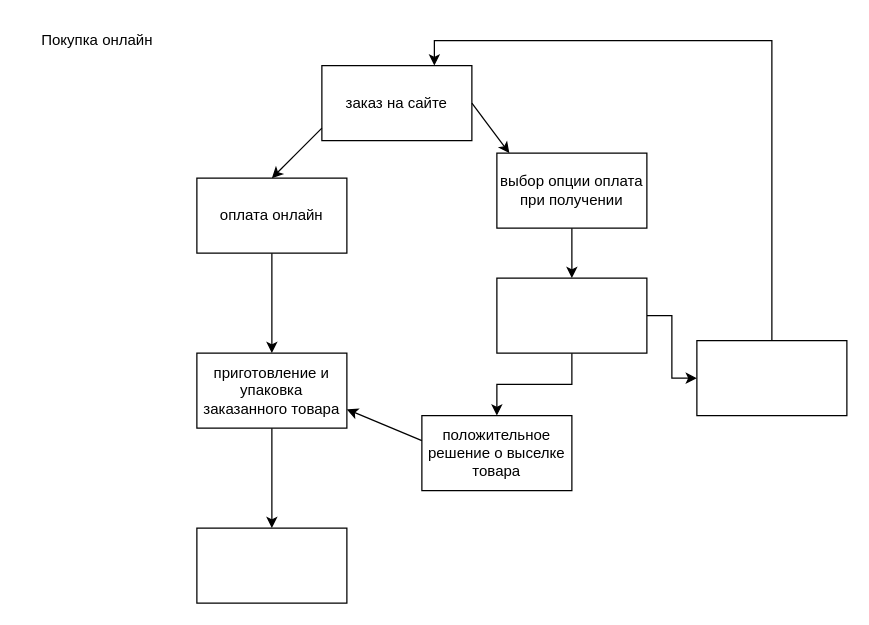
The diagram is 869 pixels wide and 625 high, and some of its shapes have lost their labels. Here are the shapes that lost their labels. From the top down, the centre of each, then its label:
the point at 571,315: анализ репутации, платежеспособности заказчика
the point at 771,377: отказы высылки товара без предоплат
the point at 271,565: высылка
